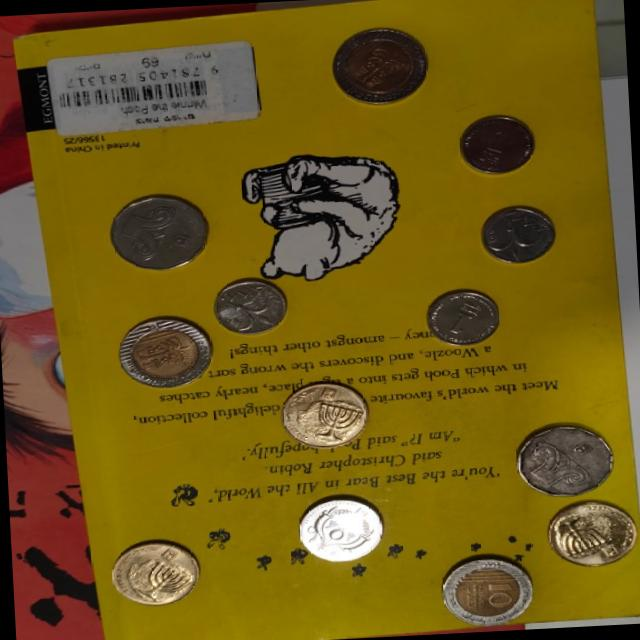1-shekel: (201, 266, 290, 340), (451, 110, 539, 182), (476, 202, 560, 268), (425, 286, 505, 352)
10-shekel: (329, 18, 434, 112), (110, 312, 217, 396), (438, 554, 540, 630)
2-shekel: (295, 492, 386, 568)
5-shekel: (510, 417, 620, 502), (105, 190, 212, 274)
